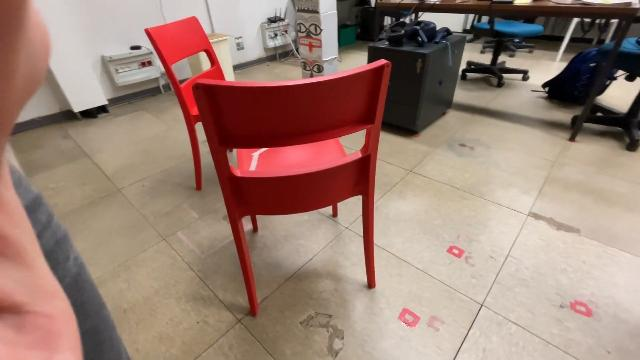Chair: (185, 56, 397, 326), (140, 13, 236, 194)
